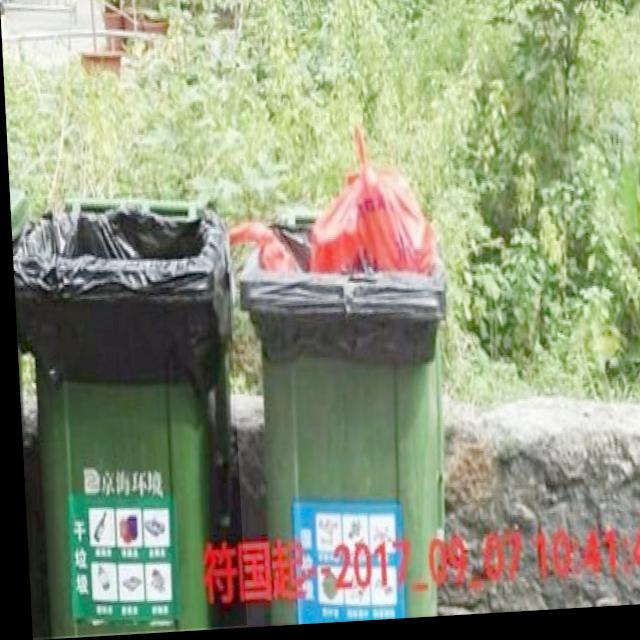garbage_bin: (8, 190, 242, 638)
overflow: (220, 125, 456, 628)
